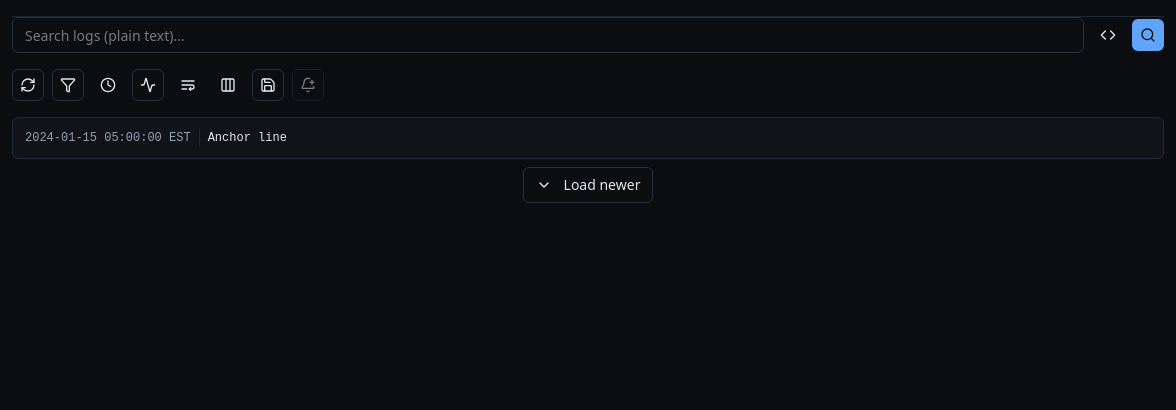
Test: LogsExplorerBody (surrounding mode) › highlights the anchor via backend anchor_index even when the clicked line diverges from the window copy
Note: Click the normal line to open the inspector.
Step 1. Click the button with test id "log-row" → (156, 138), box [25, 130, 287, 146]
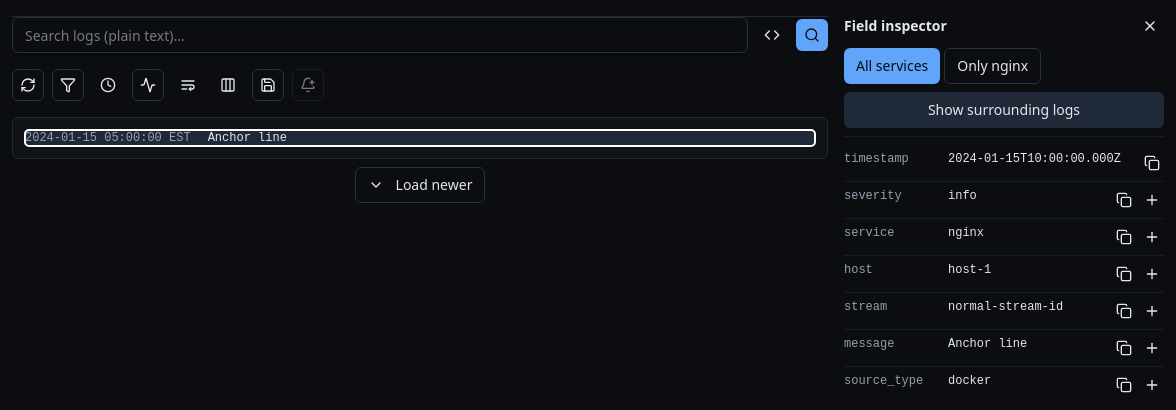
expect the button with test id "show-surrounding-logs" is shown: met
Note: Enter surrounding mode (default all-services scope).
Step 2. Click the button with test id "show-surrounding-logs" → (1004, 110), box [844, 92, 1164, 128]
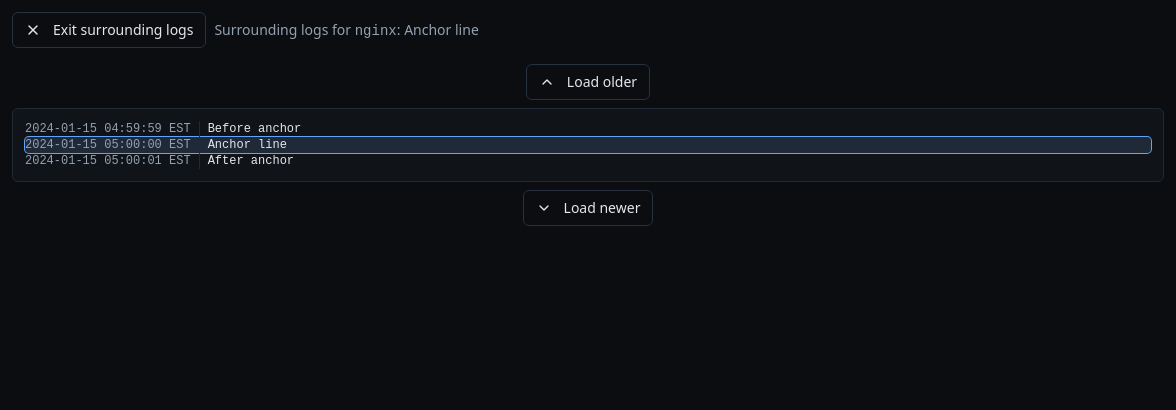
expect the button with test id "log-row-selected" shows "Anchor line": met, box [25, 137, 1151, 153]
expect the element with test id "surrounding-mode-bar" is shown: met, box [12, 12, 479, 48]
